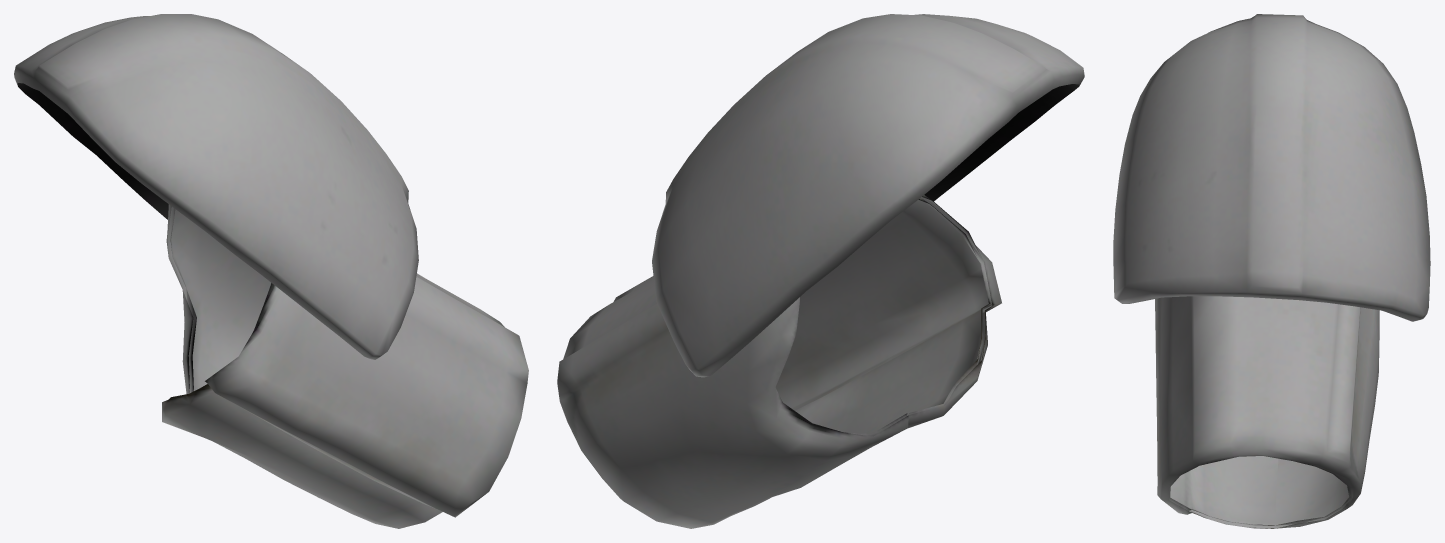
The model's file is Stormtrooper_UpperArmR.fbx.
The picture shows the model from 3 angles, left to right: view 1: azimuth 30°, elevation 25°; view 2: azimuth 150°, elevation 25°; view 3: azimuth 270°, elevation 25°; orthographic projection. The views are drawn at different scales.
Visible parts, largest first — view 1: UpperArmR; view 2: UpperArmR; view 3: UpperArmR.
Part boxes in pixels (x1=…): UpperArmR: x1=14, y1=14, x2=528, y2=528; UpperArmR: x1=557, y1=14, x2=1084, y2=528; UpperArmR: x1=1113, y1=14, x2=1430, y2=528.
Size of the model in its own units: 0.3004 by 0.3464 by 0.2396.
